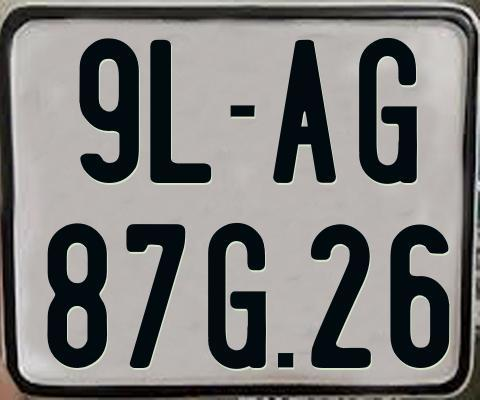2: (309, 222, 375, 372)
6: (388, 222, 452, 370)
7: (125, 223, 187, 371)
8: (46, 223, 106, 372)
9: (78, 36, 144, 185)
A: (273, 39, 342, 182)
G: (206, 221, 270, 373), (358, 35, 417, 187)
L: (150, 38, 213, 184)
